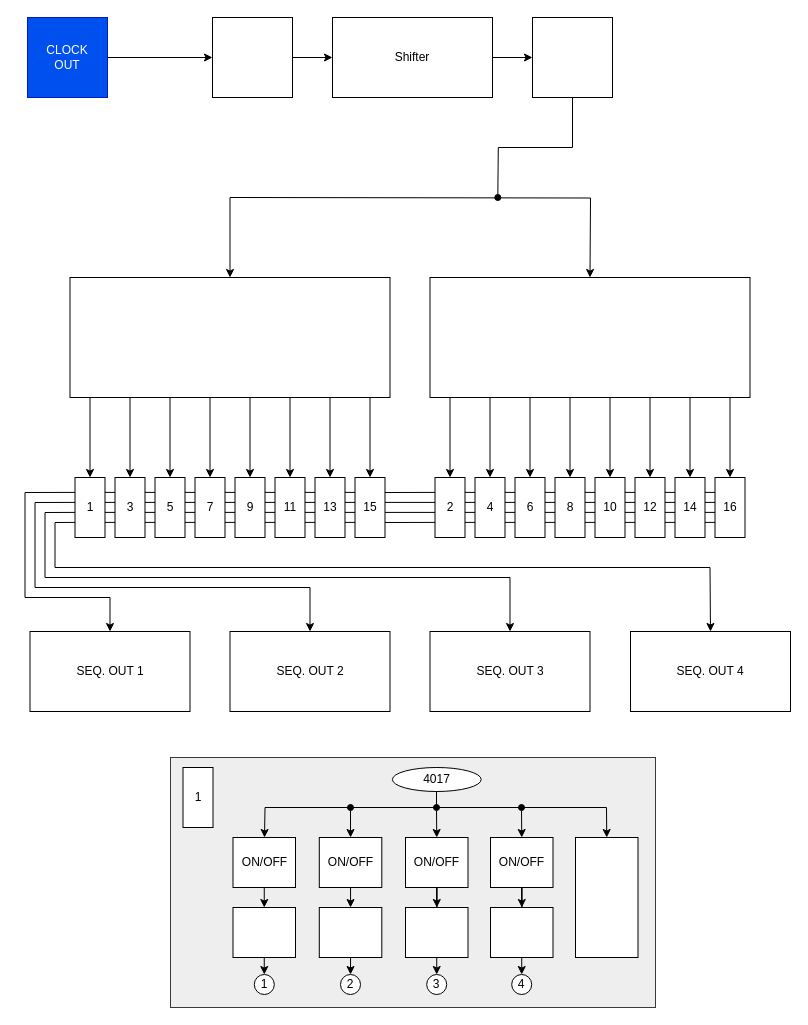
Image size: 808x1025. Some labels were removed from this diagram. Here are the shapes that lost their labels. From the top down, the centre of each, then its label:
(x=252, y=57): IN
(x=572, y=57): Toggler
(x=229, y=337): 4017 decade counter #1
(x=589, y=337): 4017 decade counter #2
(x=606, y=897): LED5
(x=264, y=932): LED1
(x=350, y=932): LED2
(x=436, y=932): LED3
(x=521, y=932): LED4
